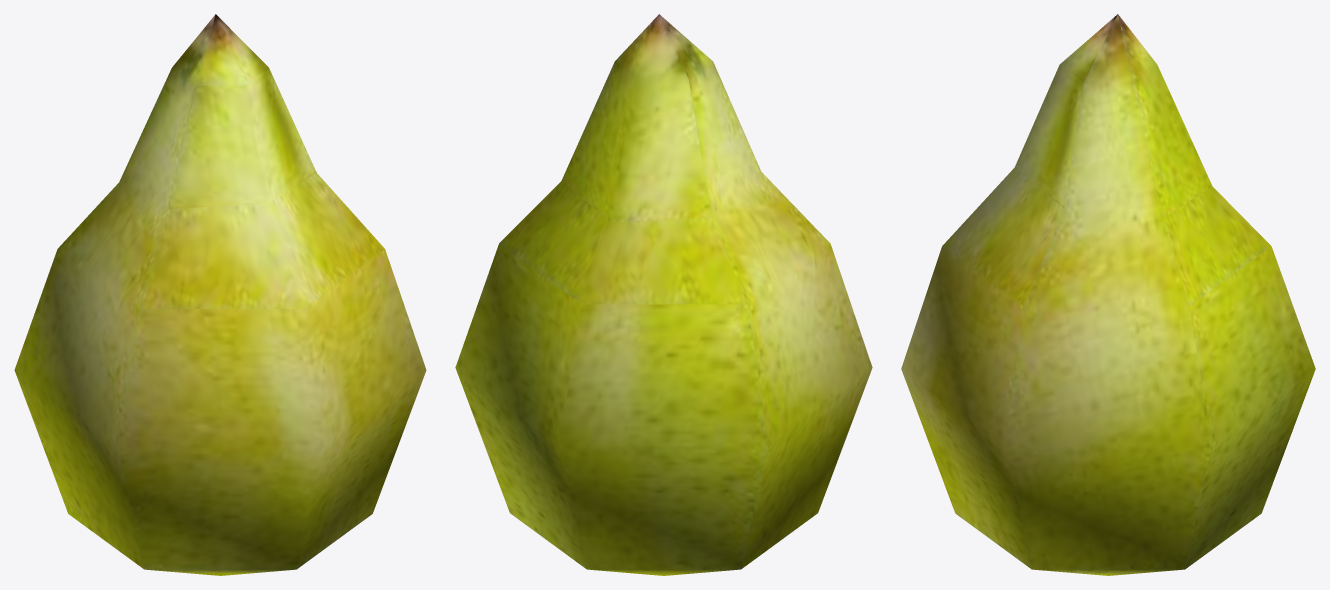
Rendered from Pear.glb.
The picture shows the model from 3 angles, left to right: view 1: azimuth 30°, elevation 25°; view 2: azimuth 150°, elevation 25°; view 3: azimuth 270°, elevation 25°; orthographic projection.
Parts seen in each view (by area): view 1: Pear; view 2: Pear; view 3: Pear.
Part boxes in pixels (box(x1,y1,x2,y2)): Pear: box(14, 14, 426, 575); Pear: box(455, 14, 872, 575); Pear: box(901, 14, 1315, 575).
Size of the model in its own units: 0.1191 by 0.2056 by 0.1375.
1 material, 1 textured.
